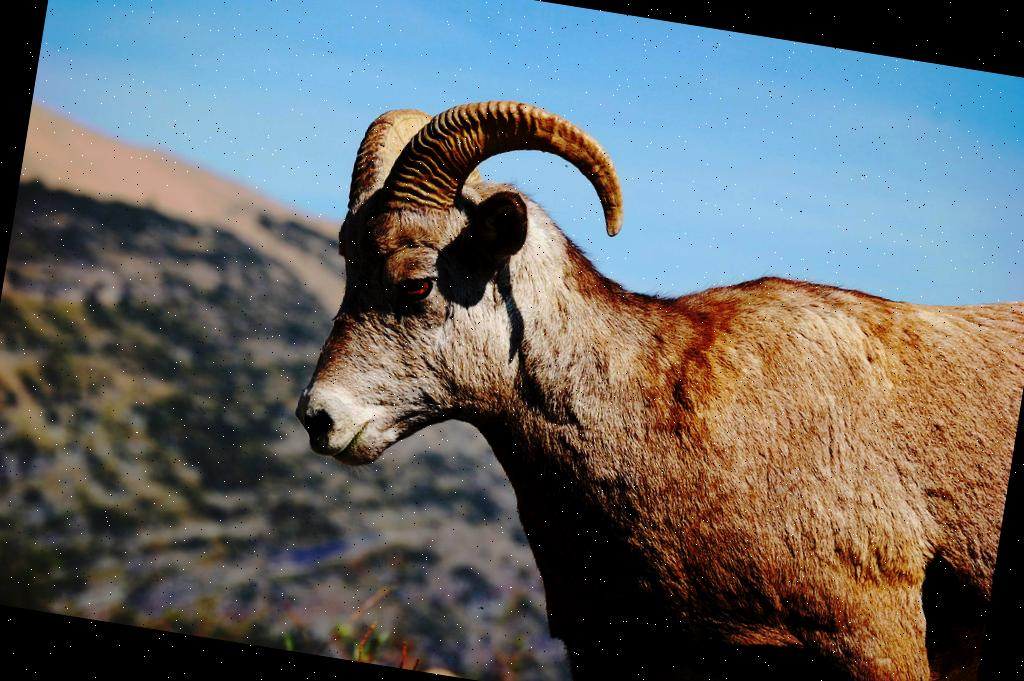Sheep: (258, 74, 1024, 681)
